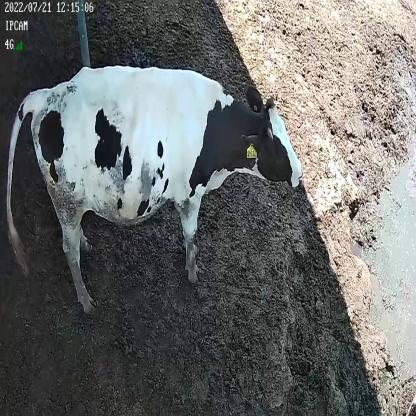cow: (5, 61, 302, 309)
